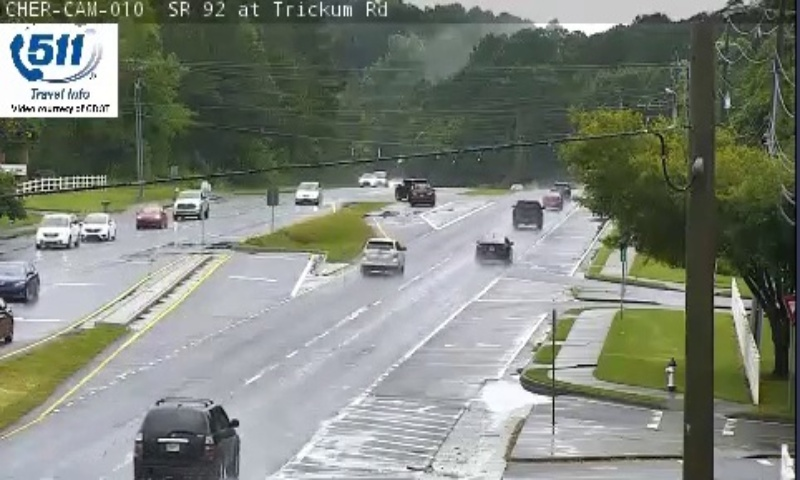car: (132, 398, 240, 480), (360, 238, 403, 265), (475, 234, 512, 261), (512, 202, 542, 225)
